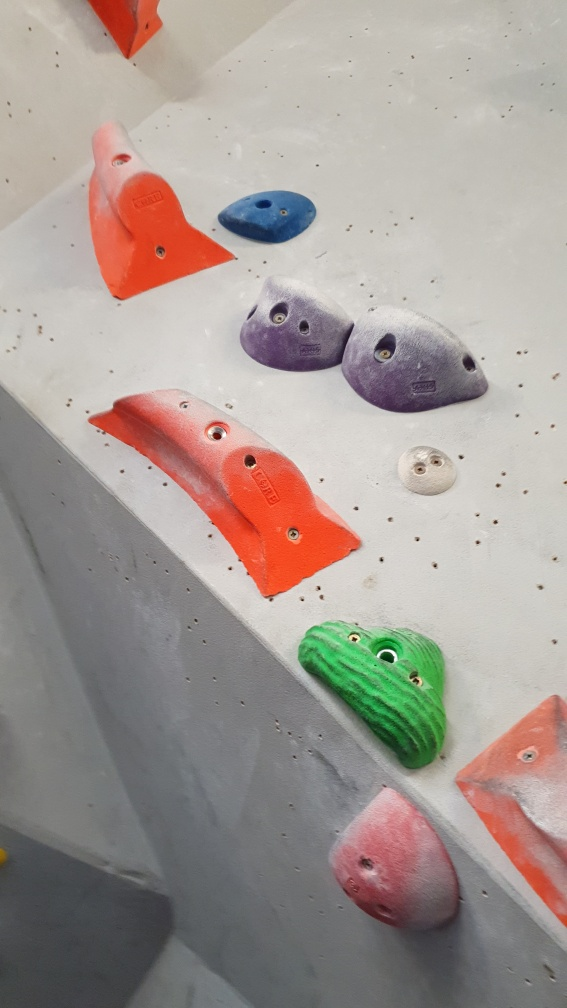Crimp: (215, 185, 319, 250)
Jug: (299, 611, 452, 772), (344, 306, 492, 412), (241, 268, 356, 372)
Pinch: (89, 384, 367, 602), (452, 691, 567, 942), (86, 119, 238, 301)
